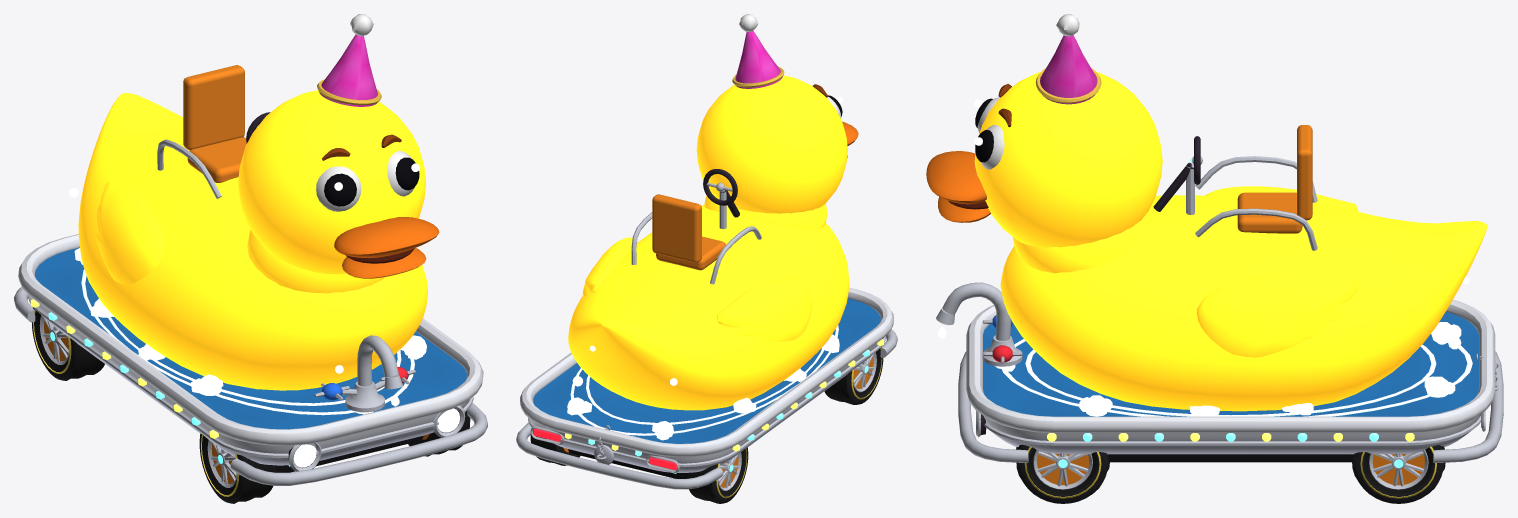
The model's file is quackzilla.glb.
3 views of the same model, side by side, from view 1: azimuth 30°, elevation 25°; view 2: azimuth 150°, elevation 25°; view 3: azimuth 270°, elevation 25° (orthographic). The views are drawn at different scales.
Parts seen in each view (by area): view 1: duck_body, head_ball, water, tub_rim, wingR_feather, seat_back, tub, bumper_1, bill_upper, neck, hat, tub_trim (+14 smaller); view 2: duck_body, head_ball, water, tub_rim, wingR_feather, seat_back, bumper_0, tub, hat, neck, tub_trim, wingL_feather (+8 smaller); view 3: duck_body, head_ball, water, tub_rim, wingL_feather, tub, neck, tub_trim, bill_upper, hat, chassis, seat_cushion (+14 smaller).
Boxes of the visible parts, x1,y1,x2,y2 form: duck_body: (78, 93, 427, 390); head_ball: (238, 90, 425, 274); water: (35, 247, 466, 429); tub_rim: (18, 234, 483, 445); wingR_feather: (96, 177, 165, 285); seat_back: (183, 65, 244, 150); tub: (32, 298, 469, 465); bumper_1: (230, 402, 487, 485); bill_upper: (334, 217, 439, 258); neck: (247, 229, 385, 293); hat: (319, 34, 377, 106); tub_trim: (28, 295, 473, 458); duck_body: (568, 205, 849, 410); head_ball: (696, 75, 847, 213); water: (533, 298, 880, 443); tub_rim: (520, 287, 893, 457); wingR_feather: (717, 277, 811, 341); seat_back: (652, 194, 701, 262); bumper_0: (516, 422, 723, 489); tub: (531, 338, 883, 472); hat: (735, 30, 782, 88); neck: (704, 196, 827, 230); tub_trim: (528, 336, 885, 466); wingL_feather: (582, 237, 637, 296); duck_body: (1000, 195, 1487, 411); head_ball: (974, 72, 1162, 247); water: (983, 312, 1478, 416); tub_rim: (966, 300, 1495, 432); wingL_feather: (1196, 273, 1358, 357); tub: (983, 414, 1480, 454); neck: (1012, 205, 1153, 273); tub_trim: (984, 416, 1480, 445); bill_upper: (926, 151, 986, 204); hat: (1040, 35, 1097, 104); chassis: (1109, 454, 1351, 462); seat_cushion: (1237, 192, 1302, 233).
Bounding box in the file's own units: 2.75 × 4.44 × 5.16.
